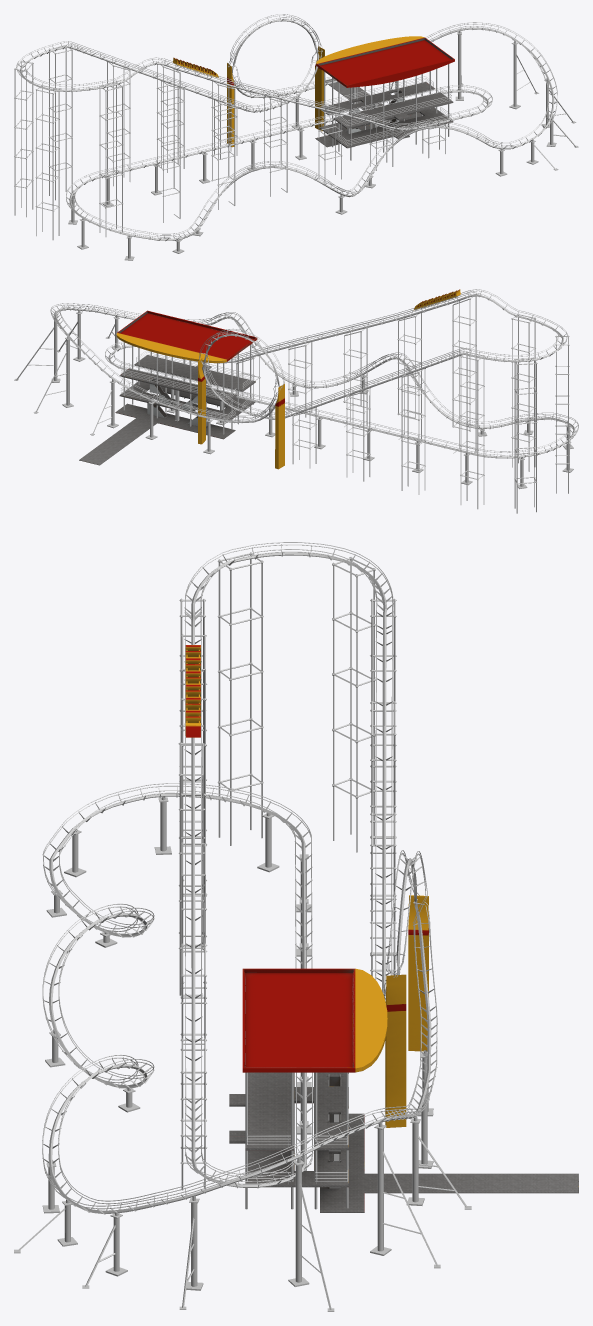
Rendered from Roller coster.fbx.
3 views of the same model, one above another, from view 1: azimuth 30°, elevation 25°; view 2: azimuth 150°, elevation 25°; view 3: azimuth 270°, elevation 25° (orthographic). The views are drawn at different scales.
Parts seen in each view (by area): view 1: Roller_coster_All; view 2: Roller_coster_All, Cart; view 3: Roller_coster_All, Cart.
Boxes of the visible parts, x1=… form: Roller_coster_All: x1=14, y1=14, x2=578, y2=260; Roller_coster_All: x1=14, y1=289, x2=578, y2=513; Cart: x1=413, y1=289, x2=460, y2=310; Roller_coster_All: x1=14, y1=542, x2=578, y2=1311; Cart: x1=185, y1=645, x2=200, y2=737.
Bounding box in the file's own units: 232 × 69.04 × 114.
